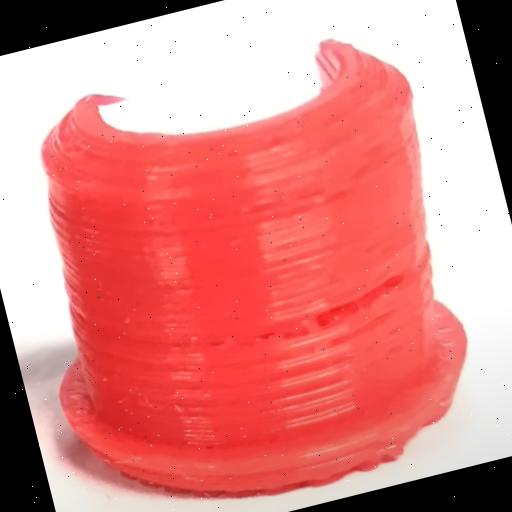cracks: (221, 242, 467, 368)
